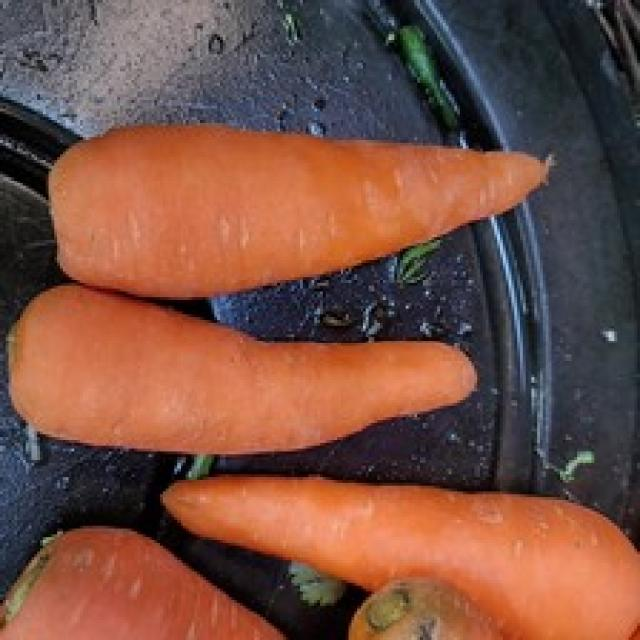Fresh_Carrot: (0, 290, 540, 456), (156, 458, 640, 640), (47, 126, 554, 292), (0, 488, 400, 640)
